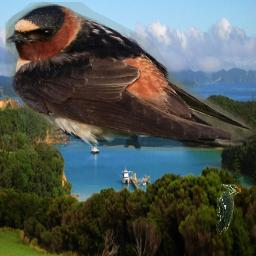Swallow: (5, 2, 256, 151)
Woodpecker: (216, 184, 241, 234)
